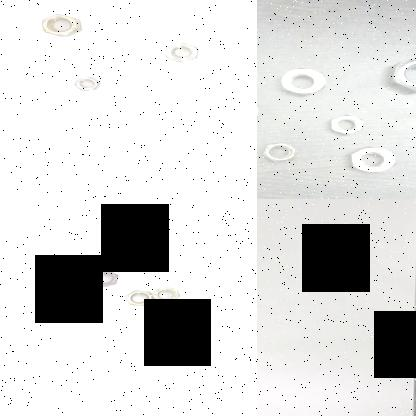NUTS: (344, 142, 400, 178), (271, 65, 328, 97), (379, 54, 416, 97), (257, 140, 306, 166), (158, 41, 209, 64), (39, 11, 82, 36), (324, 114, 370, 136), (90, 268, 124, 290), (150, 283, 184, 304), (70, 73, 100, 96), (171, 318, 200, 340), (152, 333, 186, 351), (124, 288, 154, 306)
